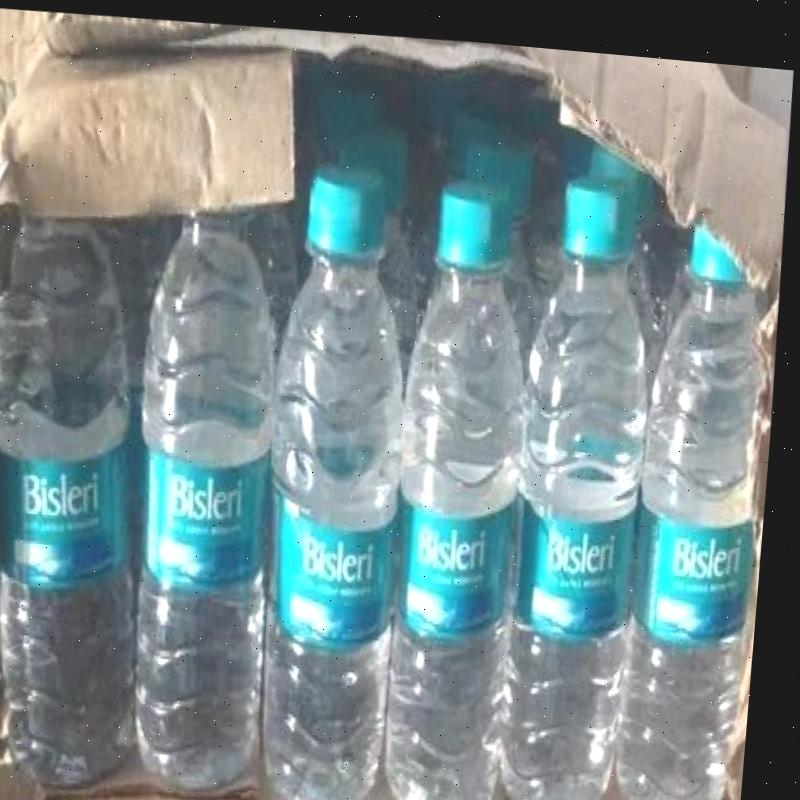botella: (118, 200, 311, 799), (253, 149, 430, 800), (0, 185, 185, 793), (380, 162, 552, 800), (619, 185, 790, 800), (502, 167, 665, 800), (327, 106, 440, 369), (454, 116, 559, 348), (578, 118, 672, 314), (309, 71, 392, 169), (443, 93, 519, 189)
